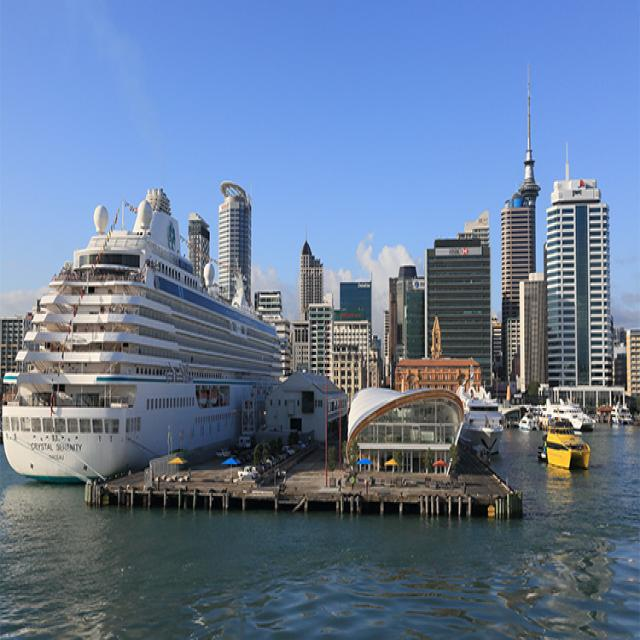passenger ship: (15, 220, 287, 474), (462, 389, 506, 459), (542, 414, 587, 476)
